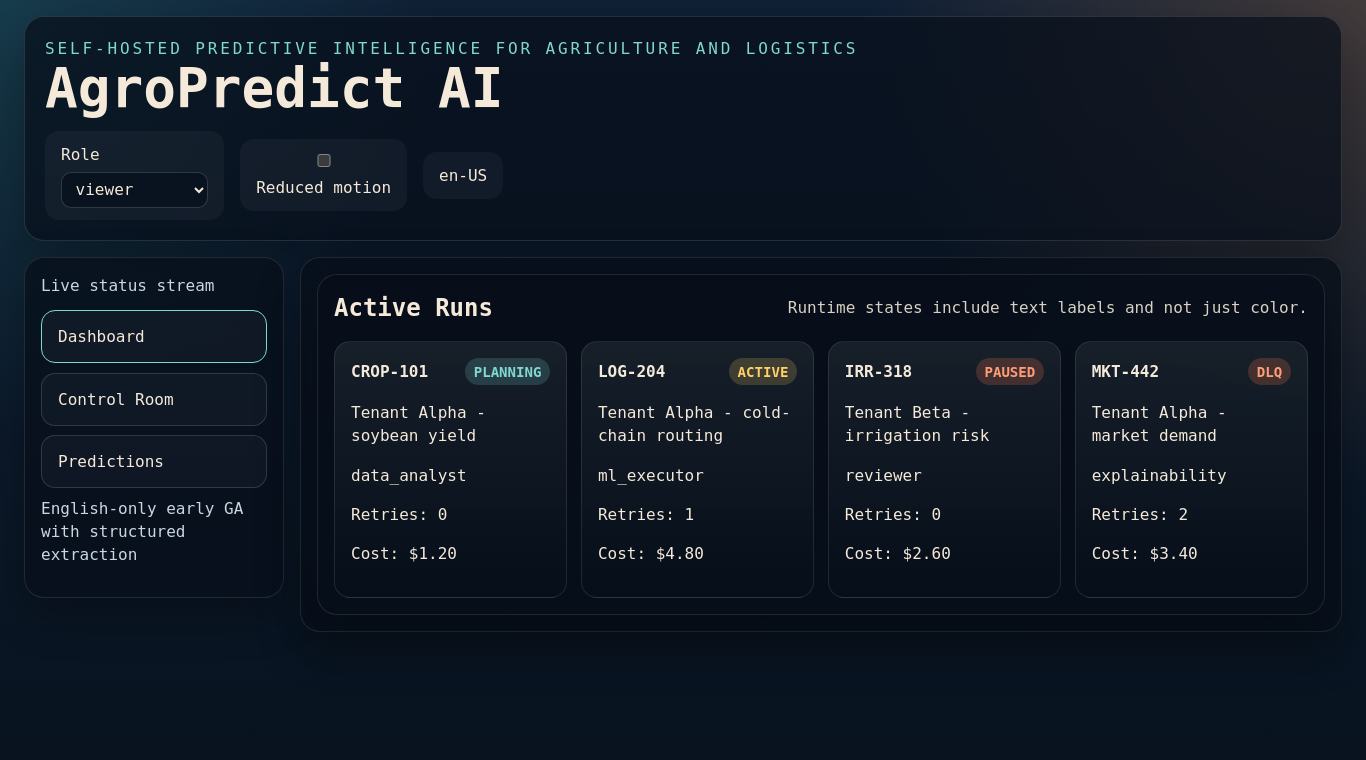
Test: App › shows API deprecation timeline in the admin panel
Select "admin" in the dropdown labelled "Role". click: {"x": 135, "y": 190}
box: [61,172,208,208]
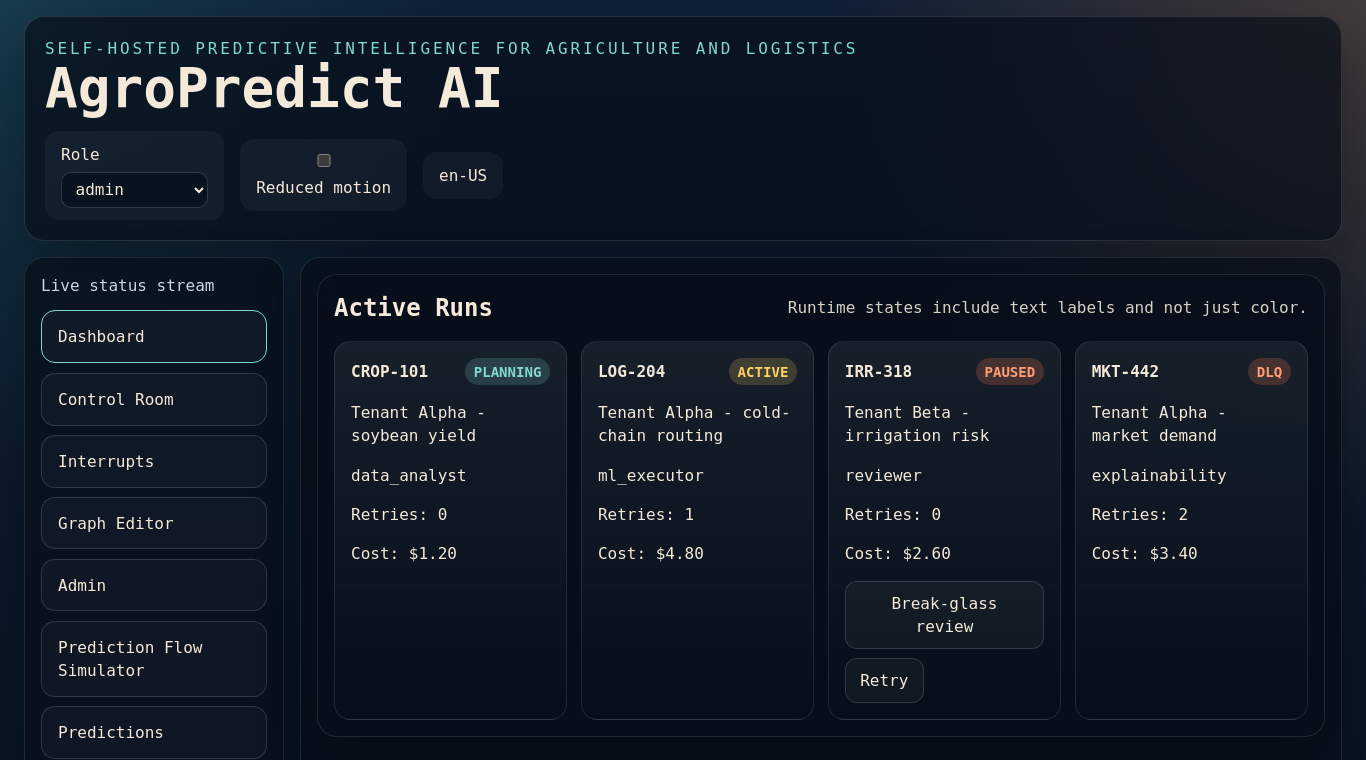
Click the button "Admin". click: {"x": 154, "y": 585}
box: [41,559,267,612]
(page scrolled)
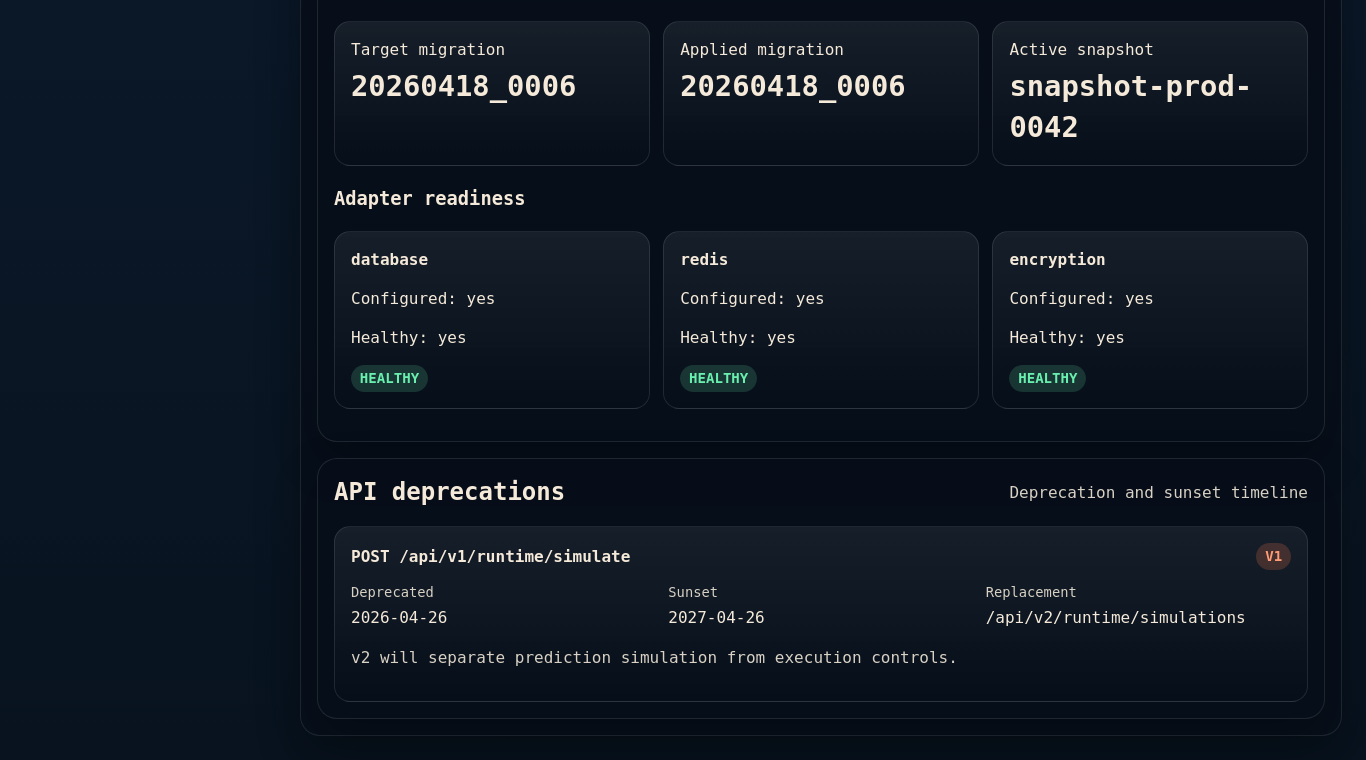
Now the heading "API deprecations" is shown, box [334,475,565,510]
Now the text "POST /api/v1/runtime/simulate" is shown, box [351,545,630,568]
Now the text "/api/v2/runtime/simulations" is shown, box [986,606,1291,630]
